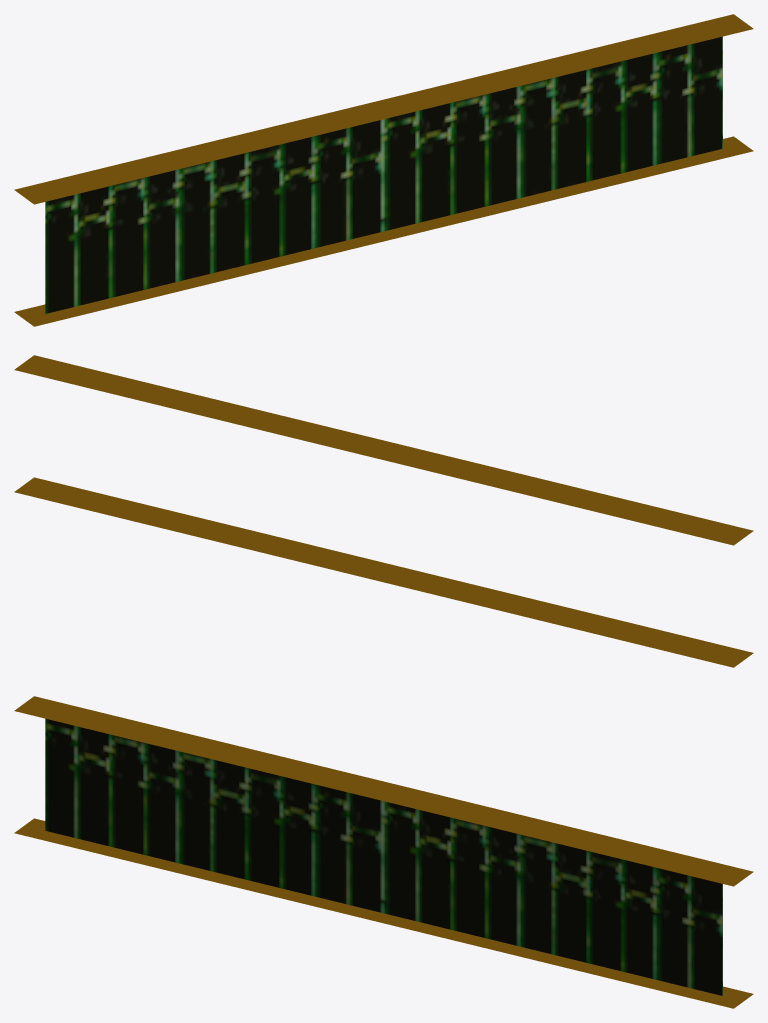
File: Geländer2 [GrünesMetall]_1682.glb
3 renders of one model, top to bottom at view 1: azimuth 30°, elevation 25°; view 2: azimuth 150°, elevation 25°; view 3: azimuth 330°, elevation 25°, orthographic.
Visible parts, largest first — view 1: pPlaneShape223, pPlaneShape224, pPlaneShape225; view 2: pPlaneShape224, pPlaneShape225; view 3: pPlaneShape223, pPlaneShape224, pPlaneShape225.
Boxes of the visible parts, x1=… form: pPlaneShape223: x1=45, y1=36, x2=722, y2=313; pPlaneShape224: x1=14, y1=14, x2=753, y2=204; pPlaneShape225: x1=14, y1=136, x2=753, y2=326; pPlaneShape224: x1=14, y1=355, x2=753, y2=545; pPlaneShape225: x1=14, y1=477, x2=753, y2=667; pPlaneShape223: x1=45, y1=718, x2=722, y2=995; pPlaneShape224: x1=14, y1=696, x2=753, y2=886; pPlaneShape225: x1=14, y1=818, x2=753, y2=1008.
Size of the model in its own units: 0.5 by 0.0811 by 0.0243.
3 materials, 1 textured.
